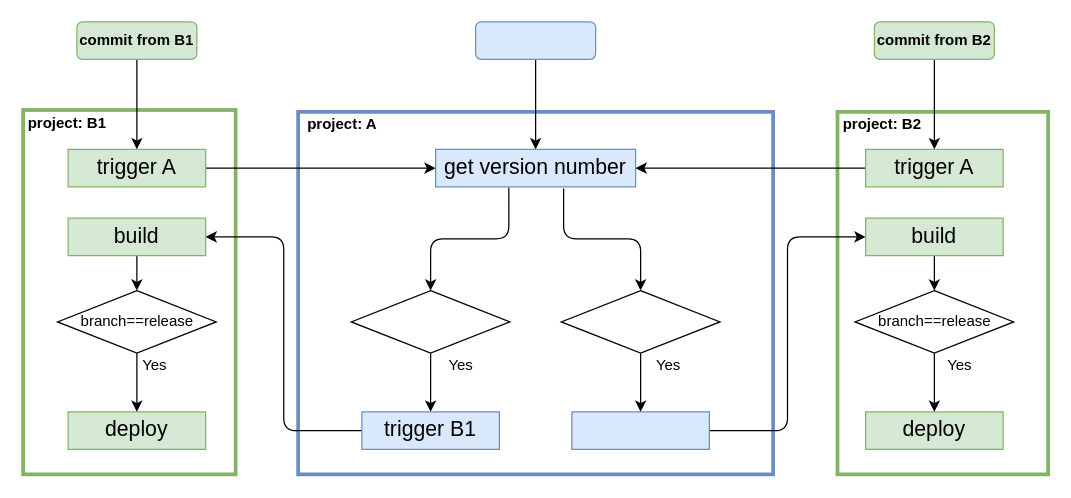
Some shapes in this 1071 by 498 pixel diagram are drawn without their labels. Each missing label, with the centre of its shape:
commit from A: (x=535, y=40)
commit from A or B1: (x=430, y=321)
commit from A or B2: (x=640, y=321)
trigger B2: (x=640, y=430)
